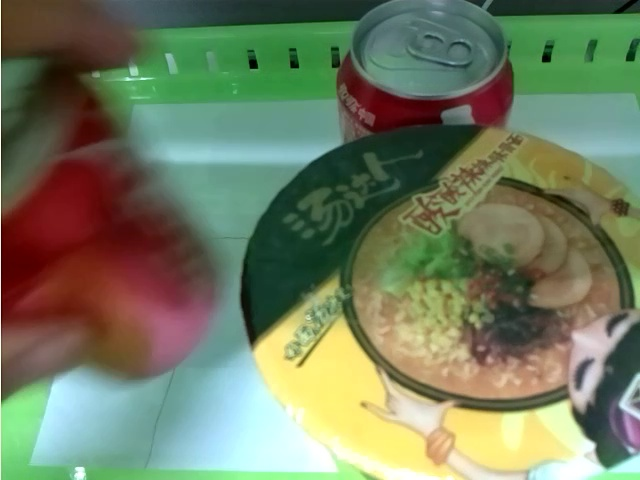cocacola: (331, 4, 517, 131)
noodles: (240, 122, 640, 480)
